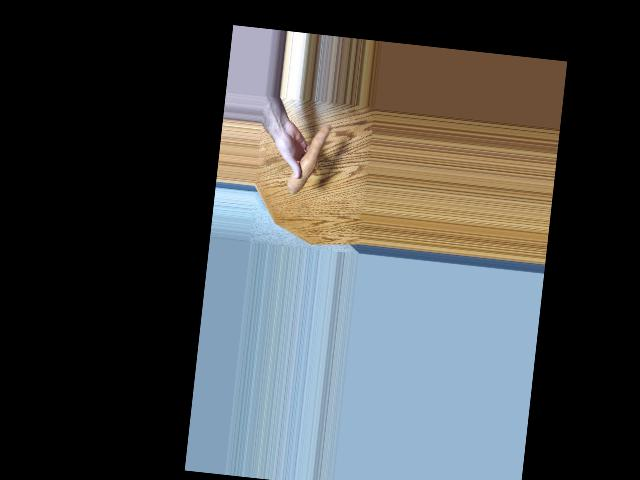sweet_potato: (294, 121, 326, 199)
